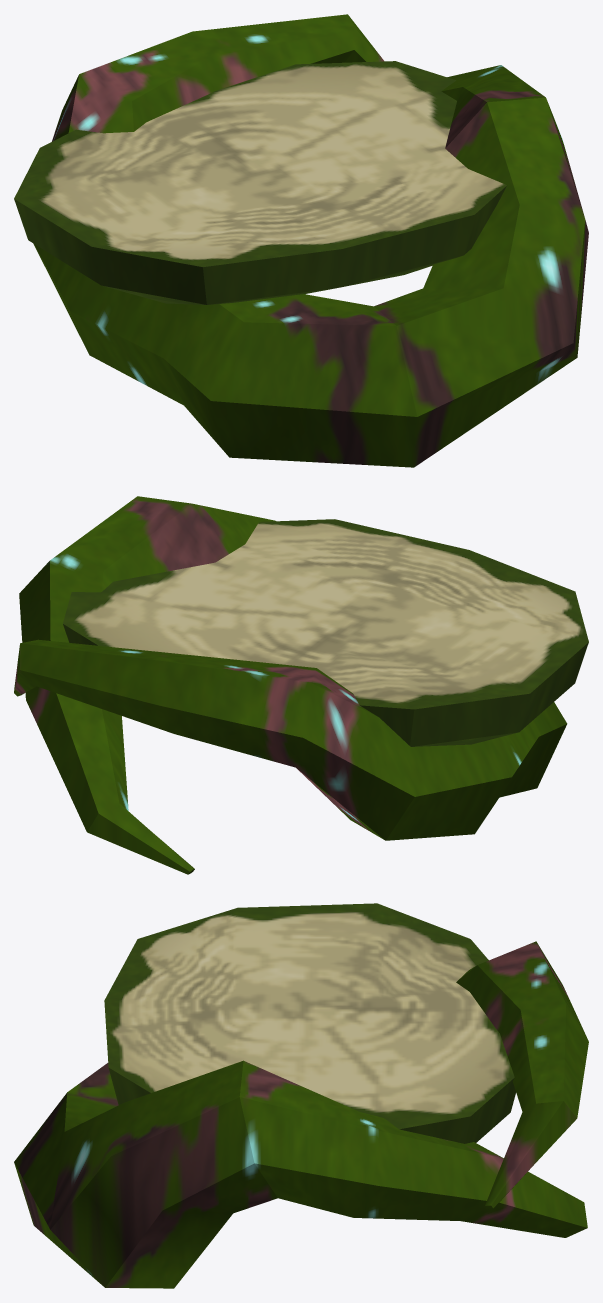
File: platform01.fbx
3 renders of one model, top to bottom at view 1: azimuth 30°, elevation 25°; view 2: azimuth 150°, elevation 25°; view 3: azimuth 270°, elevation 25°, orthographic. The views are drawn at different scales.
Visible parts, largest first — view 1: Platform01; view 2: Platform01; view 3: Platform01.
Part boxes in pixels (x1,y1,x2,y2): Platform01: (14,14,588,467); Platform01: (14,496,588,874); Platform01: (14,903,588,1288).
Bounding box in the file's own units: 1732 × 873 × 1635.
